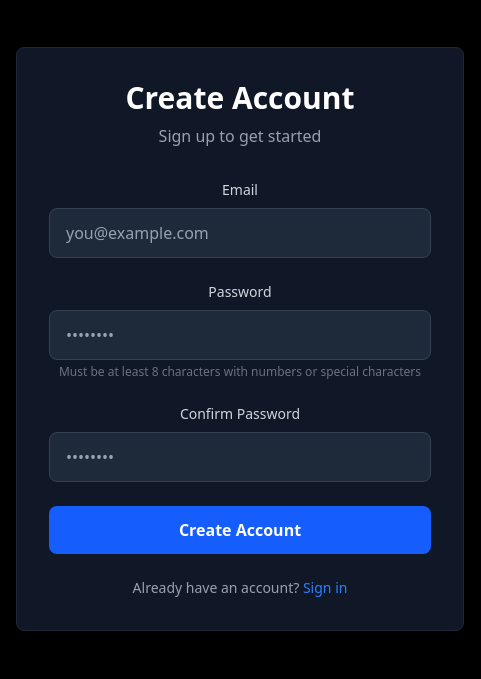
Register Component › Error Handling › displays API error message for duplicate email
The image size is (481, 679).
Type "existing@example.com" into the field labelled "Email" at (240, 233), box [49,208,431,258]
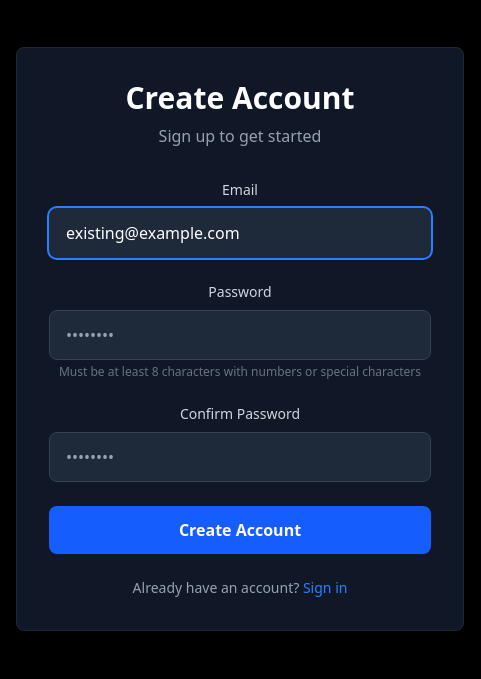
Type "SecurePass123!" into the password field labelled "Password" at (240, 335), box [49,310,431,360]
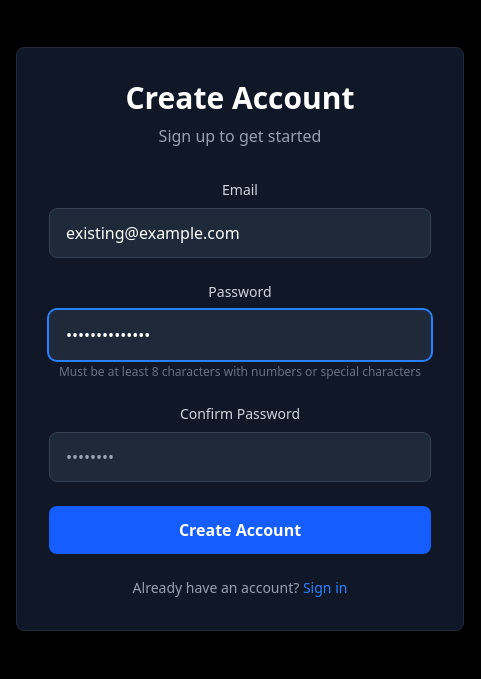
Type "SecurePass123!" into the password field labelled "Confirm Password" at (240, 457), box [49,432,431,482]
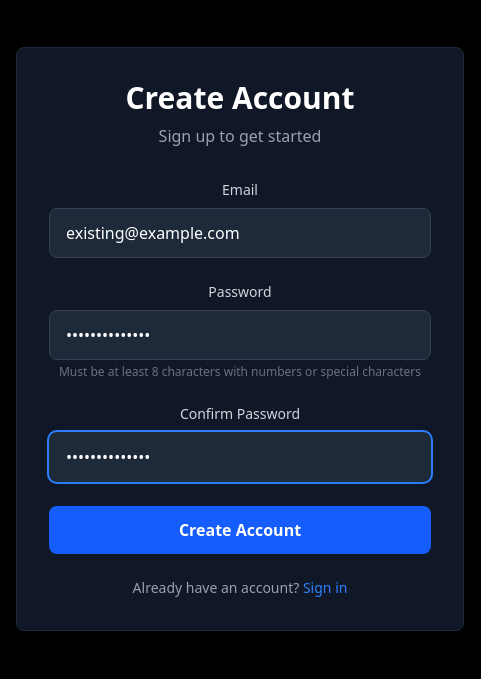
Click the button "Create Account" at (240, 530), box [49,506,431,554]
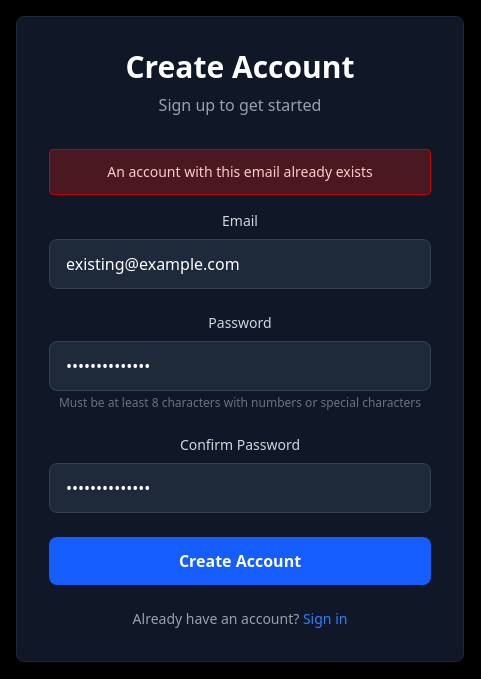
Check: the text "An account with this email already exists" is shown, box [49,149,431,195]
